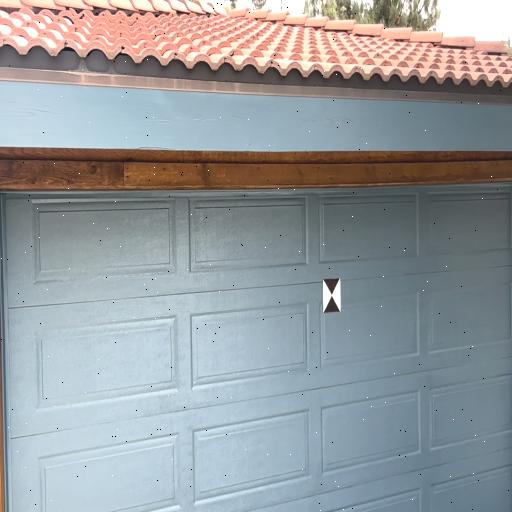target: (323, 279, 341, 314)
